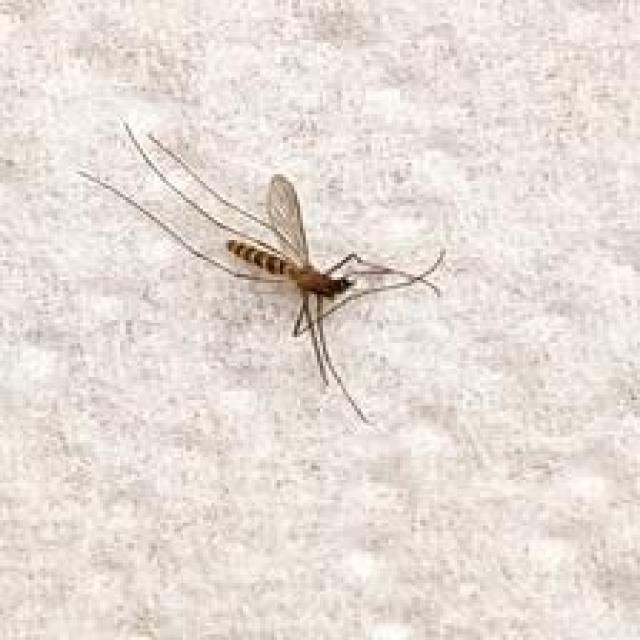Culex: (76, 117, 447, 426)
